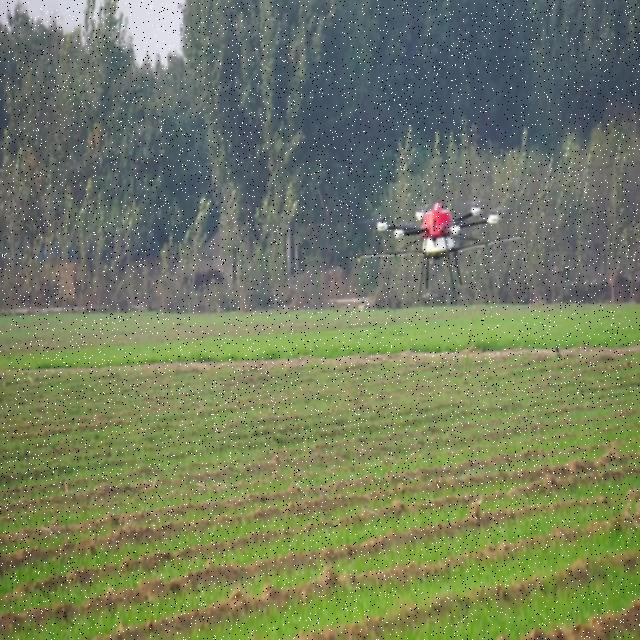UAV: (358, 201, 524, 299)
